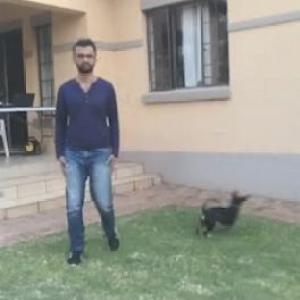follow: (53, 40, 125, 260)
